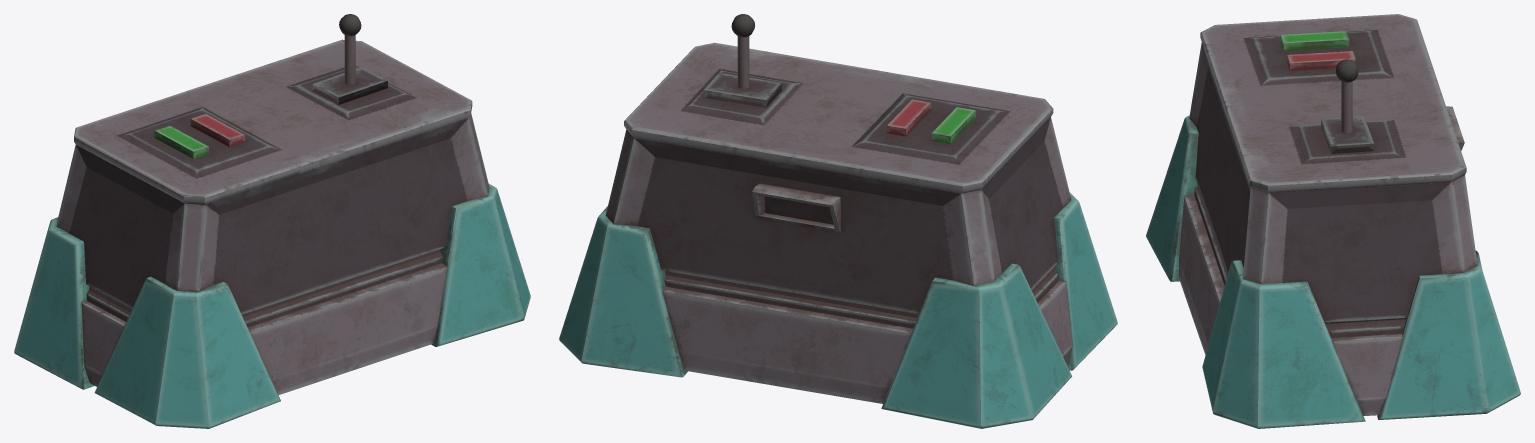
File: Hijskraan_controlepaneel.fbx
3 views of the same model, side by side, from view 1: azimuth 30°, elevation 25°; view 2: azimuth 150°, elevation 25°; view 3: azimuth 270°, elevation 25° (orthographic). The views are drawn at different scales.
Visible parts, largest first — view 1: Hijskraan_controle, stick, knop2, knop1; view 2: Hijskraan_controle, stick, knop1, knop2; view 3: Hijskraan_controle, knop2, stick, knop1.
Part boxes in pixels (<box>): Hijskraan_controle: <box>14,39,530,428</box>; stick: <box>339,14,361,84</box>; knop2: <box>154,125,208,158</box>; knop1: <box>190,114,244,147</box>; Hijskraan_controle: <box>559,42,1117,428</box>; stick: <box>731,14,754,88</box>; knop1: <box>887,99,931,136</box>; knop2: <box>931,107,975,144</box>; Hijskraan_controle: <box>1146,14,1520,428</box>; knop2: <box>1280,31,1349,50</box>; stick: <box>1336,59,1358,133</box>; knop1: <box>1287,51,1355,70</box>.
Bounding box in the file's own units: 179 × 111 × 126.
